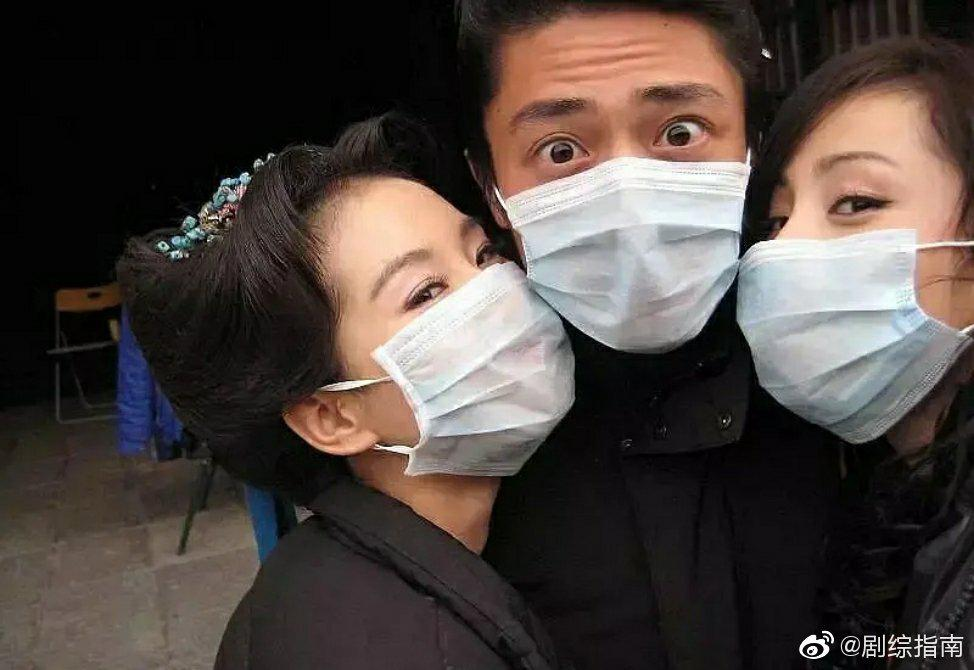OK: (501, 55, 752, 352), (741, 130, 972, 441), (354, 192, 574, 476)
